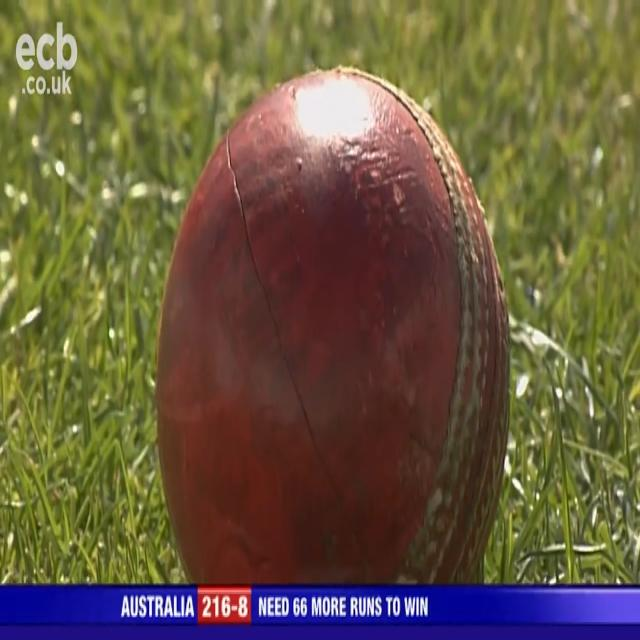ball: (153, 65, 513, 587)
